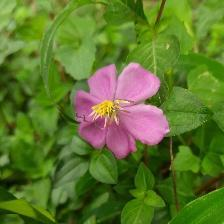malabar melastome: (72, 62, 176, 161)
